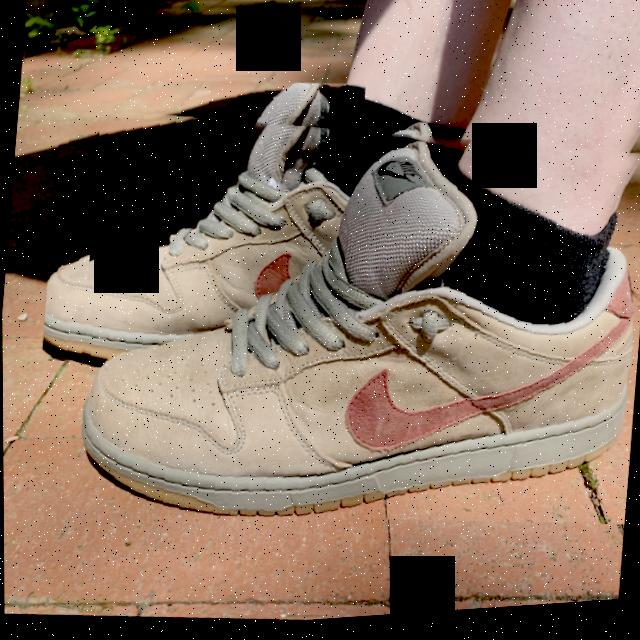shoe: (66, 81, 640, 562), (38, 62, 368, 389)
